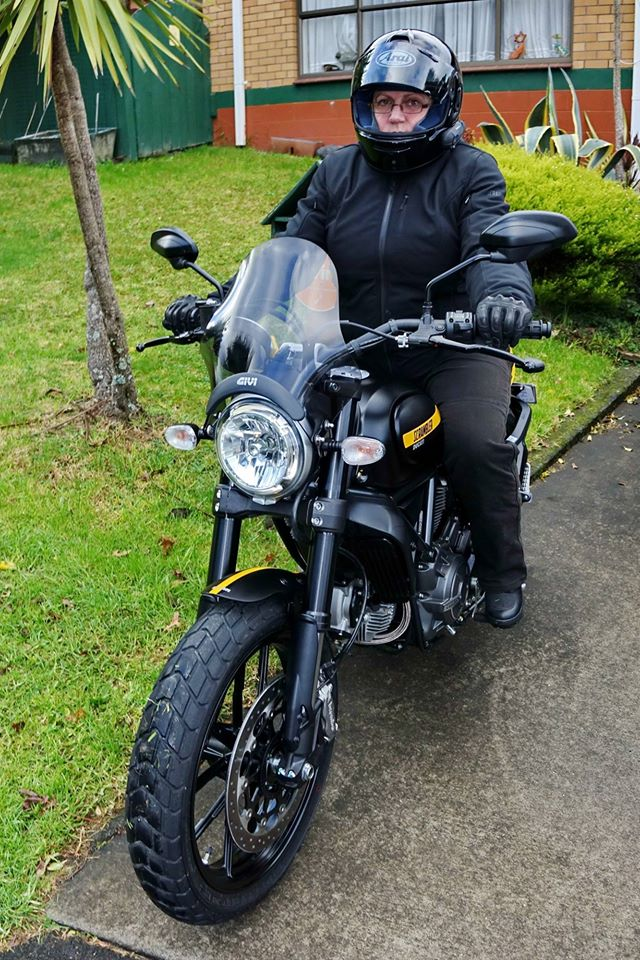helmet: (351, 23, 464, 161)
